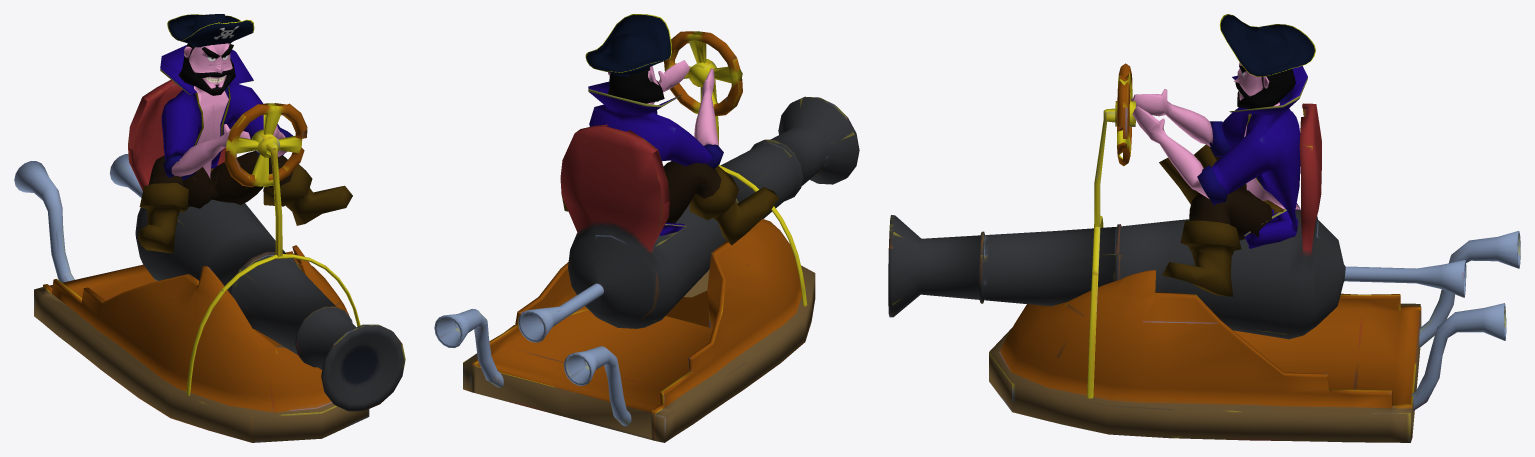
File: VacilePirata_000551.obj
3 renders of one model, left to right at view 1: azimuth 30°, elevation 25°; view 2: azimuth 150°, elevation 25°; view 3: azimuth 270°, elevation 25°, orthographic. The views are drawn at different scales.
Visible parts, largest first — view 1: carro_pirata_carro_pirata.001, Pirata_PirataH; view 2: carro_pirata_carro_pirata.001, Pirata_PirataH; view 3: carro_pirata_carro_pirata.001, Pirata_PirataH.
Part boxes in pixels (box(x1,y1,x2,y2)): carro_pirata_carro_pirata.001: box(14, 80, 405, 442); Pirata_PirataH: box(138, 14, 352, 253); carro_pirata_carro_pirata.001: box(434, 31, 859, 442); Pirata_PirataH: box(562, 14, 779, 245); carro_pirata_carro_pirata.001: box(888, 63, 1520, 442); Pirata_PirataH: box(1132, 14, 1315, 296).
Size of the model in its own units: 5.13 by 7.76 by 12.1.
